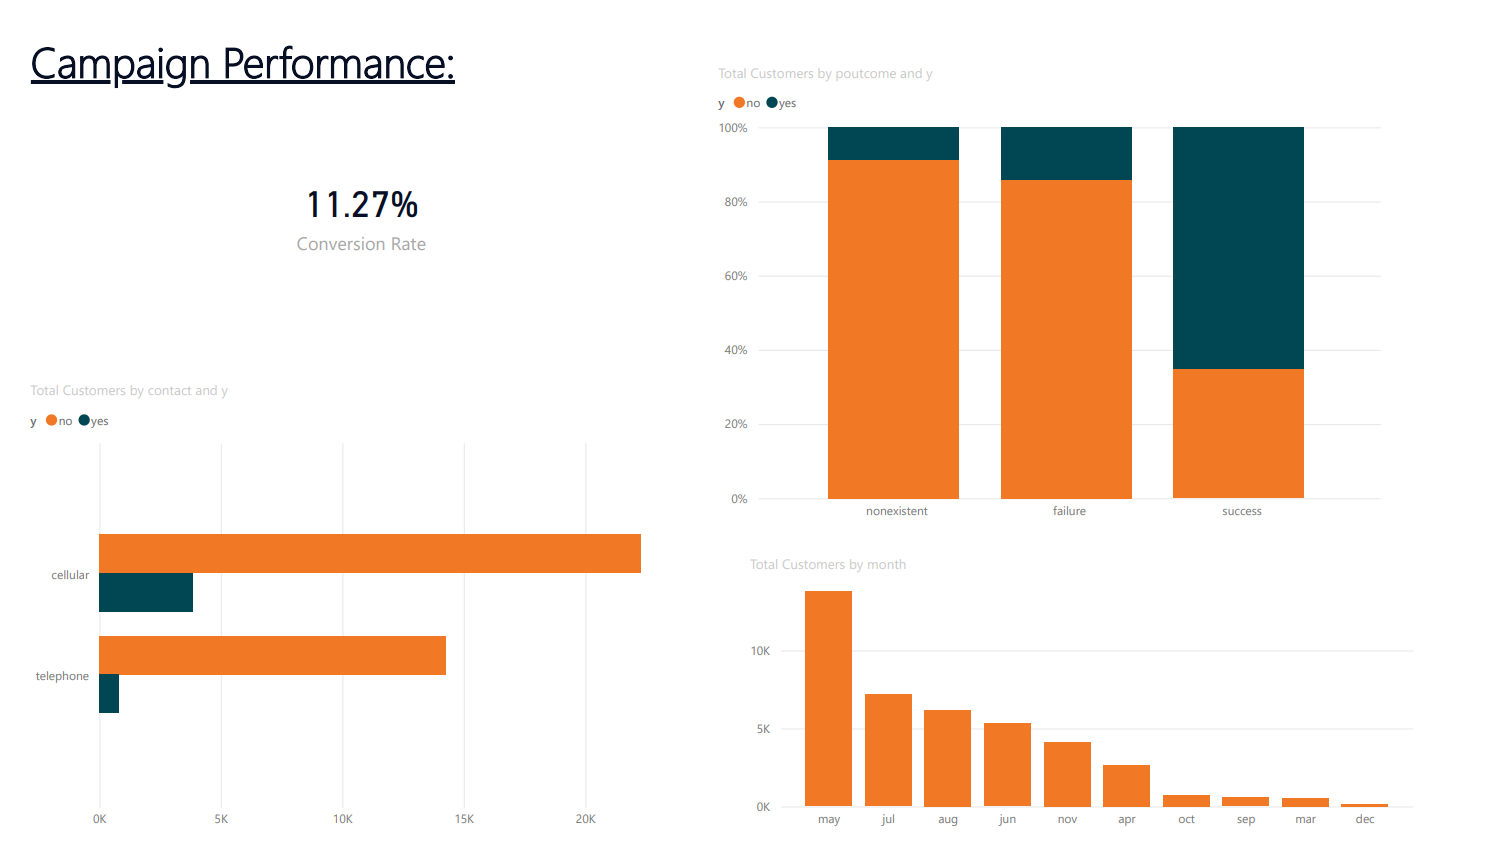

Layout of this report page (visuals, bound fields, positions):
{"tool":"powerbi","page":{"name":"Performances","canvas":[1280,720],"ordinal":1},"visuals":[{"type":"textbox","box":[0,0,440.5,61.7],"z":0},{"type":"clusteredColumnChart","fields":{"Category":["Worksheet.month"],"Y":["Worksheet.Total Customers"]},"box":[639.5,467.9,598.3,252.5],"z":1000},{"type":"clusteredBarChart","fields":{"Category":["Worksheet.contact"],"Y":["Worksheet.Total Customers"],"Series":["Worksheet.y"]},"box":[0,314.2,598.3,406.2],"z":2000},{"type":"hundredPercentStackedColumnChart","fields":{"Category":["Worksheet.poutcome"],"Y":["Worksheet.Total Customers"],"Series":["Worksheet.y"]},"box":[610.6,31.6,598.3,414.4],"z":3000},{"type":"card","fields":{"Values":["Worksheet.Conversion Rate"]},"box":[0,0,598.3,330.7],"z":4000}]}

Visuals, with their boxes in screenshot pixels (x1, y1, x2, y2), scaled from the page's 1280x720 canvas onto the 1491x864 screenshot:
textbox: <bbox>0, 0, 513, 74</bbox>
clusteredColumnChart - Worksheet.month x Worksheet.Total Customers: <bbox>745, 561, 1442, 863</bbox>
clusteredBarChart - Worksheet.contact x Worksheet.Total Customers: <bbox>0, 377, 697, 863</bbox>
hundredPercentStackedColumnChart - Worksheet.poutcome x Worksheet.Total Customers: <bbox>711, 38, 1408, 535</bbox>
card - Worksheet.Conversion Rate: <bbox>0, 0, 697, 397</bbox>
